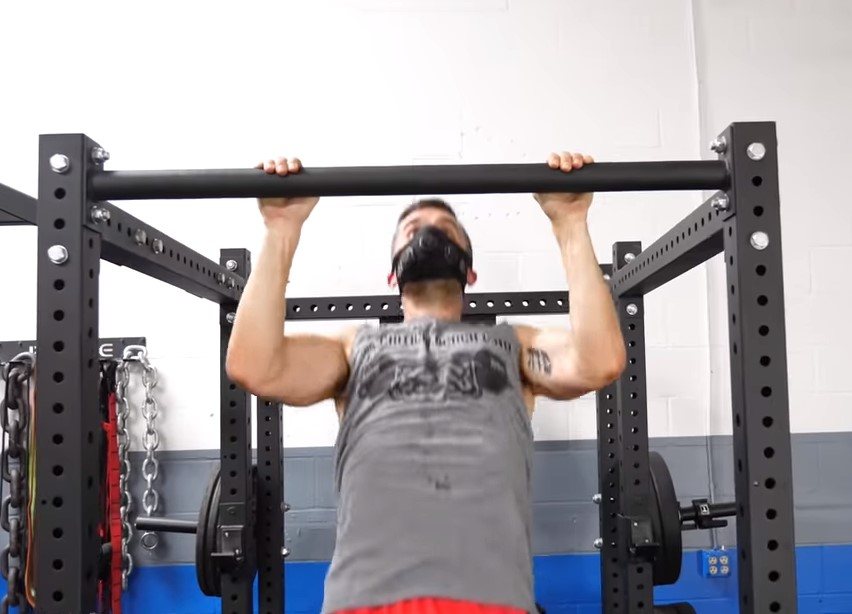face_with_mask: (384, 198, 479, 294)
